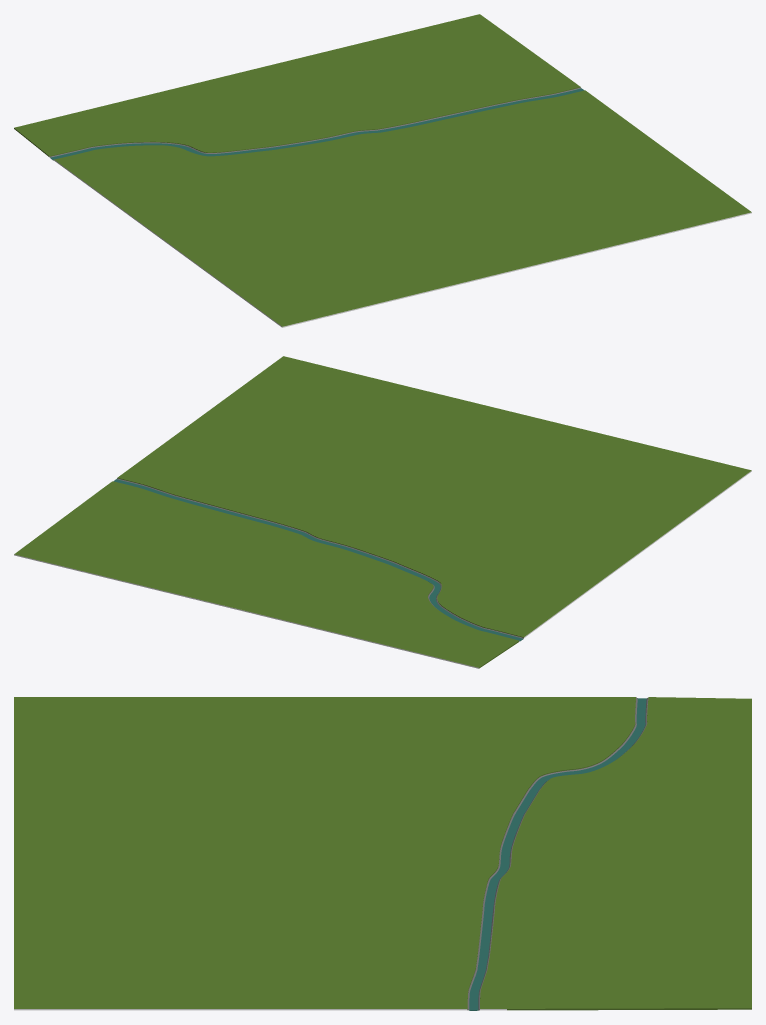
File: surfaceblended.glb
The picture shows the model from 3 angles, top to bottom: view 1: azimuth 30°, elevation 25°; view 2: azimuth 150°, elevation 25°; view 3: azimuth 270°, elevation 25°; orthographic projection. The views are drawn at different scales.
Parts seen in each view (by area): view 1: CSGCombiner3D2, CSGPolygon3D2, CSGPolygon3D4; view 2: CSGCombiner3D2, CSGPolygon3D2, CSGPolygon3D6; view 3: CSGCombiner3D2, CSGPolygon3D2, CSGPolygon3D6, CSGPolygon3D4.
Part boxes in pixels (bbox=[...]): CSGCombiner3D2: bbox=[14, 14, 751, 327]; CSGPolygon3D2: bbox=[50, 88, 584, 160]; CSGPolygon3D4: bbox=[49, 87, 580, 157]; CSGCombiner3D2: bbox=[14, 356, 751, 668]; CSGPolygon3D2: bbox=[114, 479, 523, 641]; CSGPolygon3D6: bbox=[117, 478, 523, 638]; CSGCombiner3D2: bbox=[14, 697, 751, 1010]; CSGPolygon3D2: bbox=[469, 698, 646, 1010]; CSGPolygon3D6: bbox=[467, 697, 637, 1010]; CSGPolygon3D4: bbox=[478, 698, 648, 1010].
Bounding box in the file's own units: 881 × 2.34 × 880.
